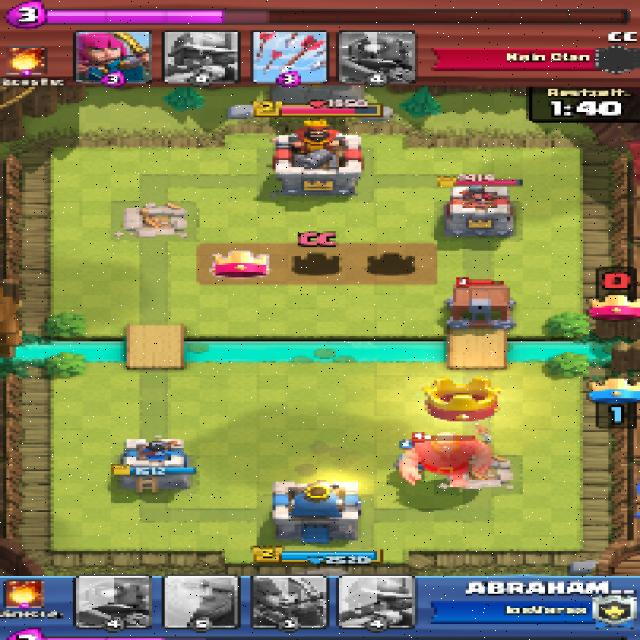Enemy-Giant: (398, 433, 493, 490)
Player-GoblinCage: (442, 282, 518, 330)
Player-Knight: (397, 443, 428, 477)
